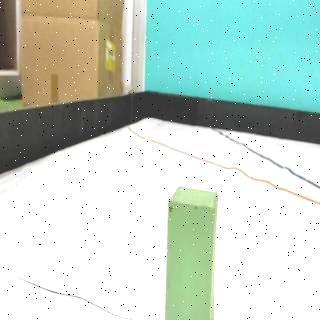greenbox: (164, 184, 220, 320)
